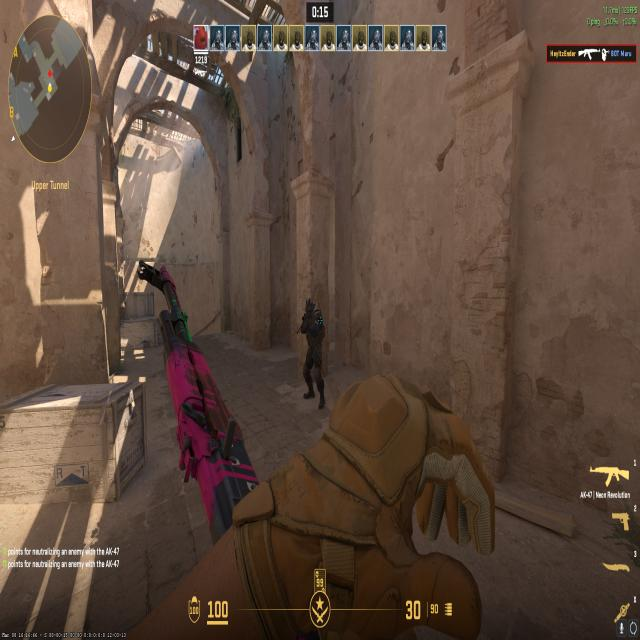ct: (284, 281, 338, 418)
